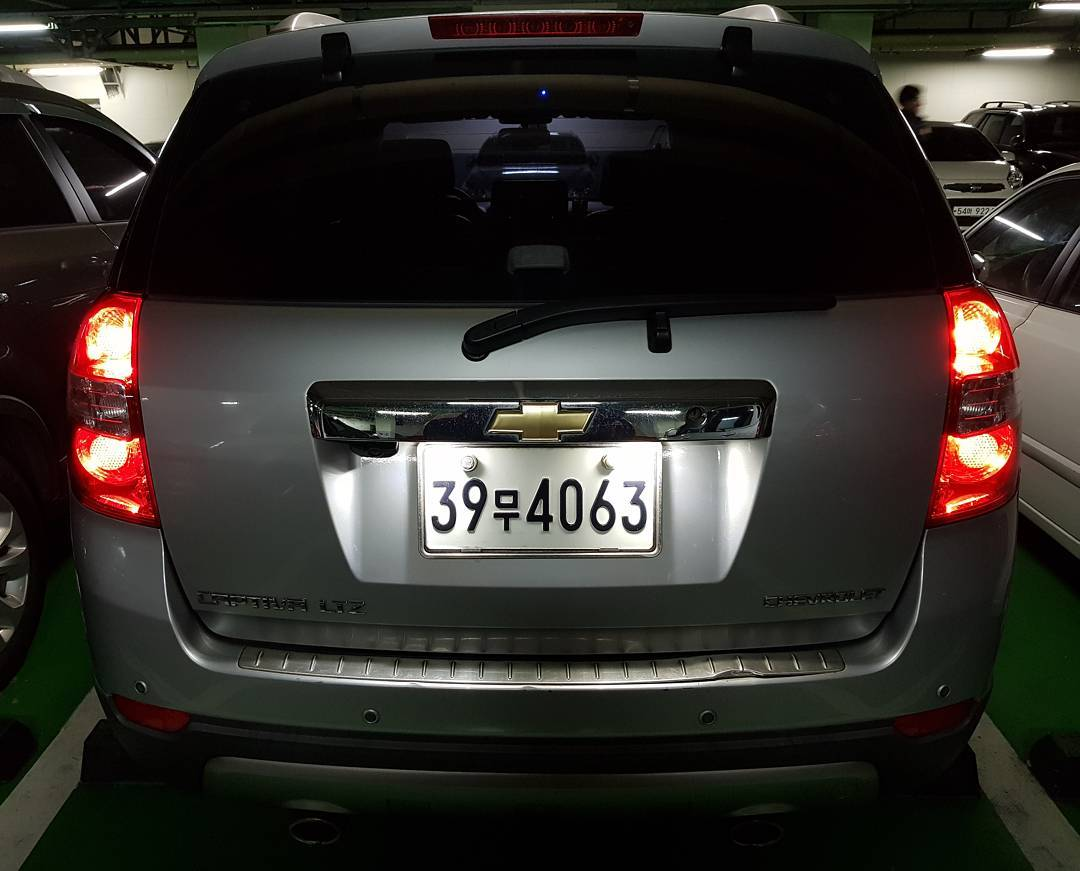plate: (422, 443, 657, 553)
